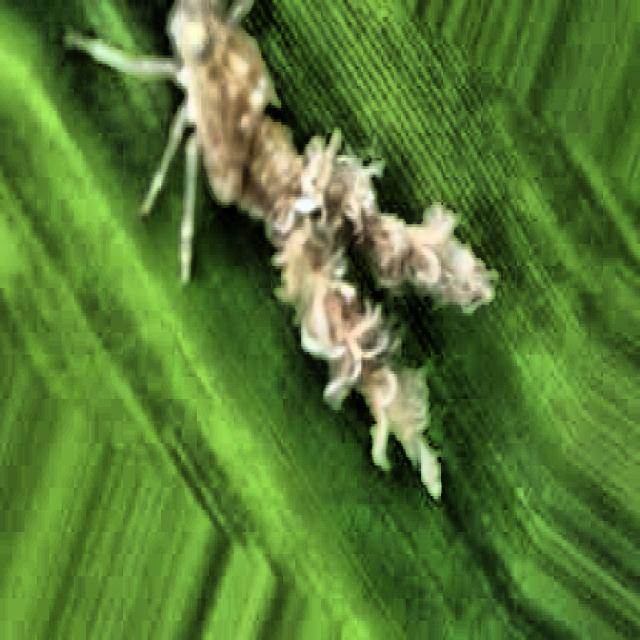Pyrilla-perpusilla: (71, 7, 536, 568)
